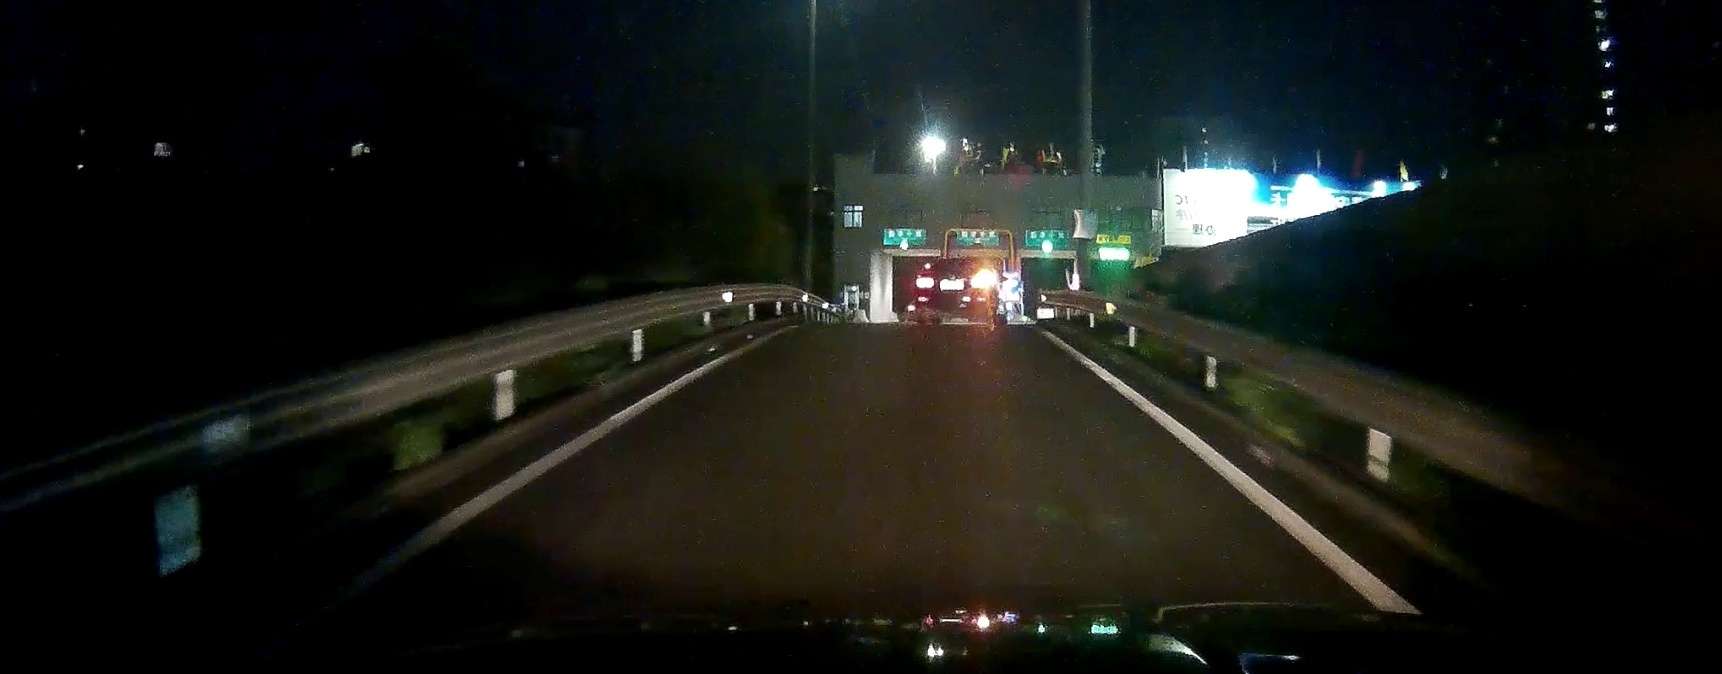L_light: (917, 278, 935, 288)
R_light: (971, 277, 992, 287)
T_light: (952, 258, 964, 262)
night-right: (916, 257, 995, 323)
